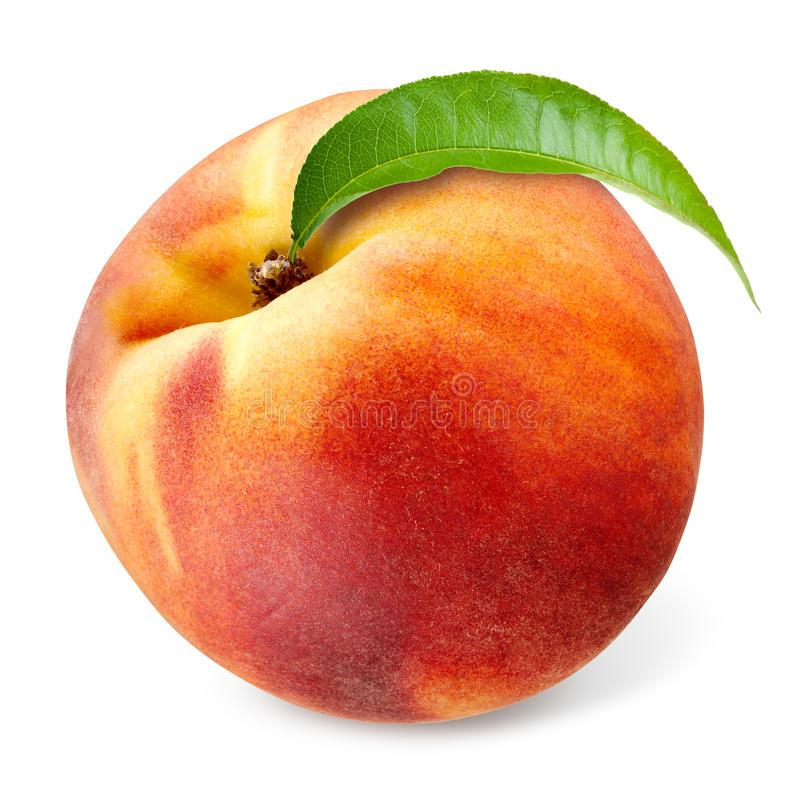Peach leaf: (270, 54, 761, 318)
